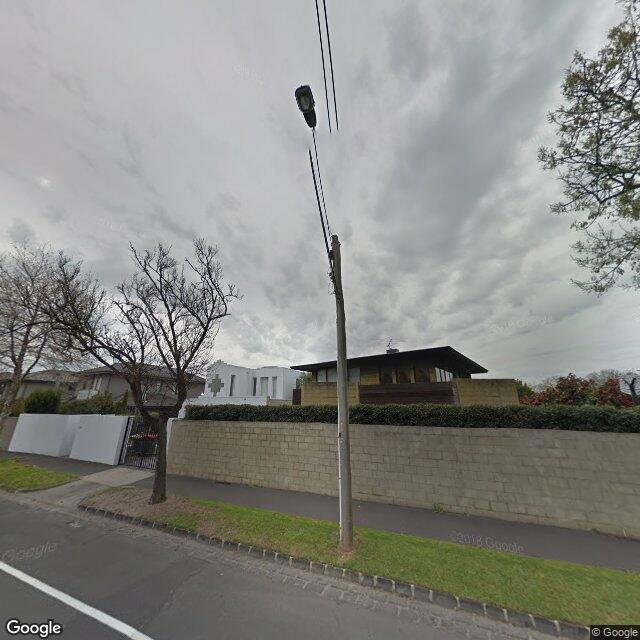streetlight: (296, 85, 338, 295)
timber-pole: (332, 235, 354, 551)
